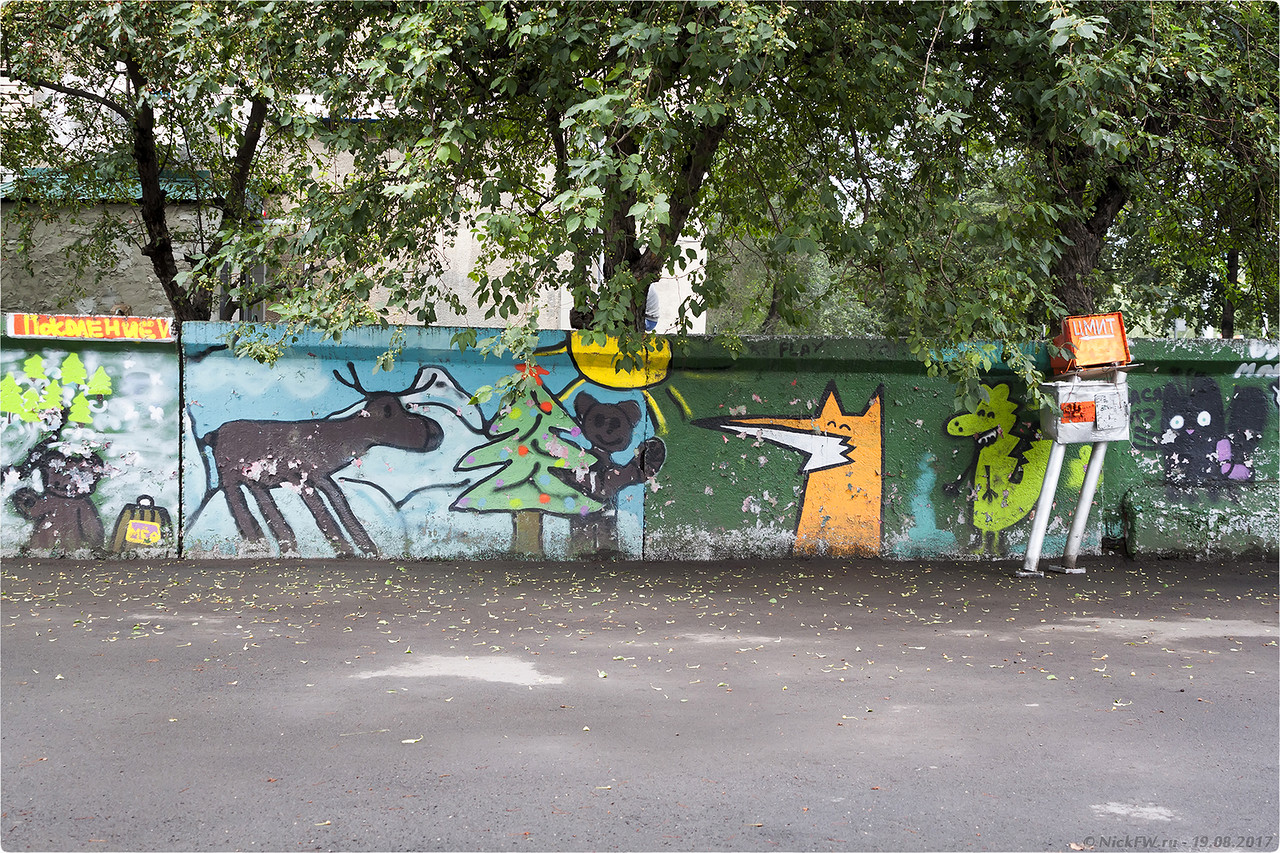graphite: (180, 350, 475, 548), (690, 382, 912, 564), (469, 369, 658, 560), (1, 364, 180, 565), (950, 377, 1110, 564), (1141, 375, 1279, 515), (14, 314, 173, 350)
